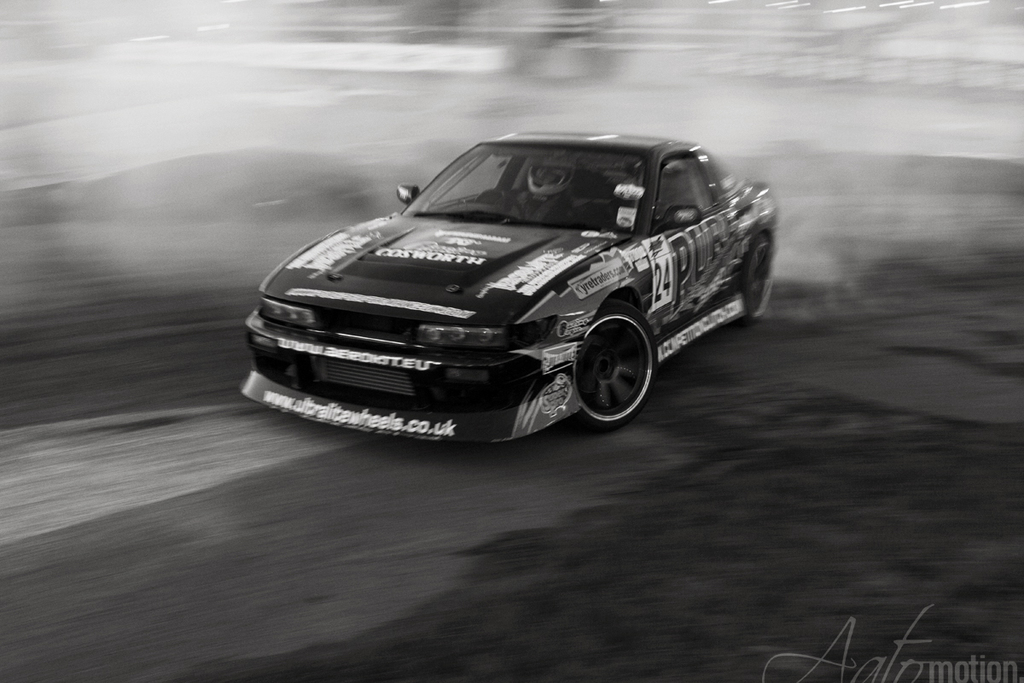Car: (240, 130, 778, 450)
